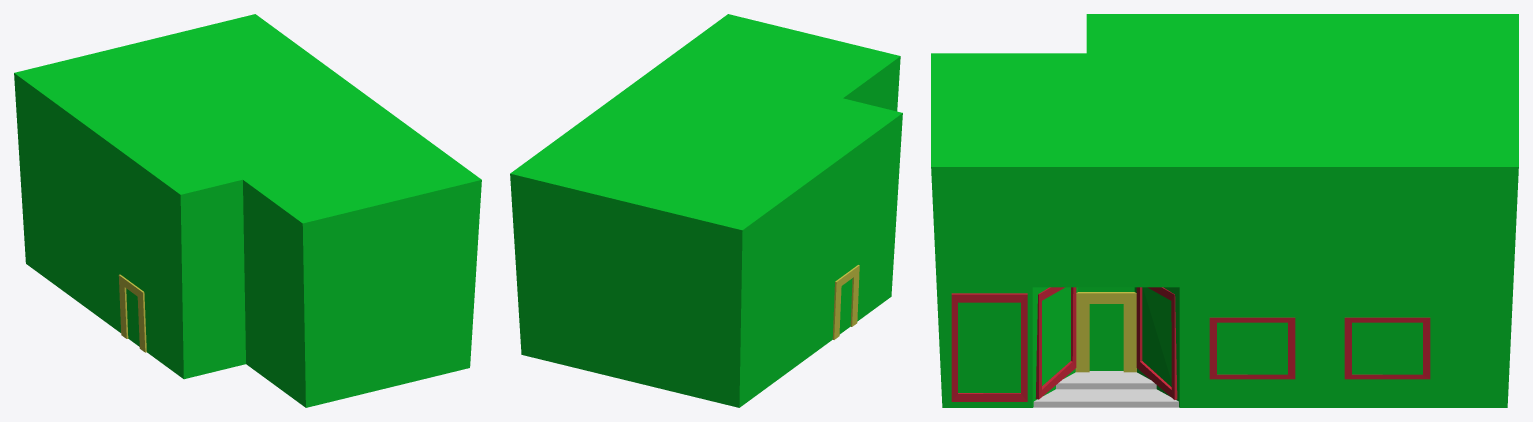
File: D2.fbx_Starting_Pub.fbx
3 views of the same model, side by side, from view 1: azimuth 30°, elevation 25°; view 2: azimuth 150°, elevation 25°; view 3: azimuth 270°, elevation 25° (orthographic). The views are drawn at different scales.
Visible parts, largest first — view 1: Starting Pub, Back Door Frame; view 2: Starting Pub, Back Door Frame; view 3: Starting Pub, Front Stairs, Window Left Front, Front Door Frame, Window Right Front 2, Window Right Front 1, Window Entrance Right, Window Entrance Right.001.
Part boxes in pixels (bbox=[...]): Starting Pub: bbox=[14, 14, 481, 407]; Back Door Frame: bbox=[118, 274, 146, 352]; Starting Pub: bbox=[510, 14, 902, 407]; Back Door Frame: bbox=[832, 265, 859, 339]; Starting Pub: bbox=[931, 14, 1518, 407]; Front Stairs: bbox=[1033, 371, 1178, 407]; Window Left Front: bbox=[951, 293, 1027, 401]; Front Door Frame: bbox=[1075, 292, 1136, 372]; Window Right Front 2: bbox=[1344, 317, 1430, 379]; Window Right Front 1: bbox=[1209, 317, 1295, 379]; Window Entrance Right: bbox=[1136, 287, 1177, 399]; Window Entrance Right.001: bbox=[1035, 287, 1076, 399].
Bounding box in the file's own units: 975 × 732 × 1585.
